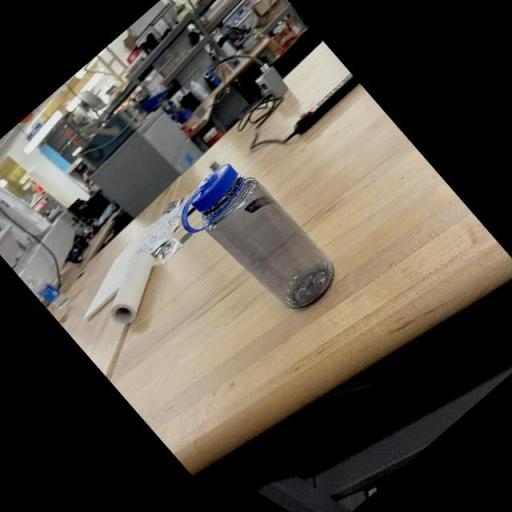bottle: (169, 151, 348, 337)
